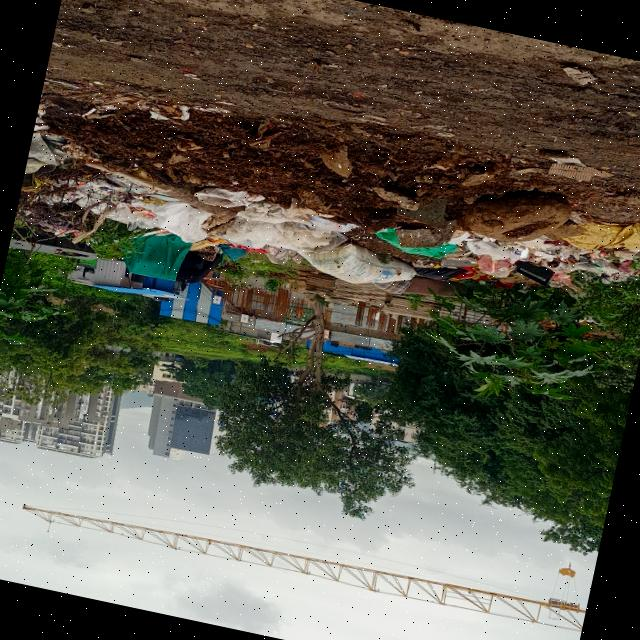garbage: (14, 132, 404, 299), (389, 173, 640, 343)
